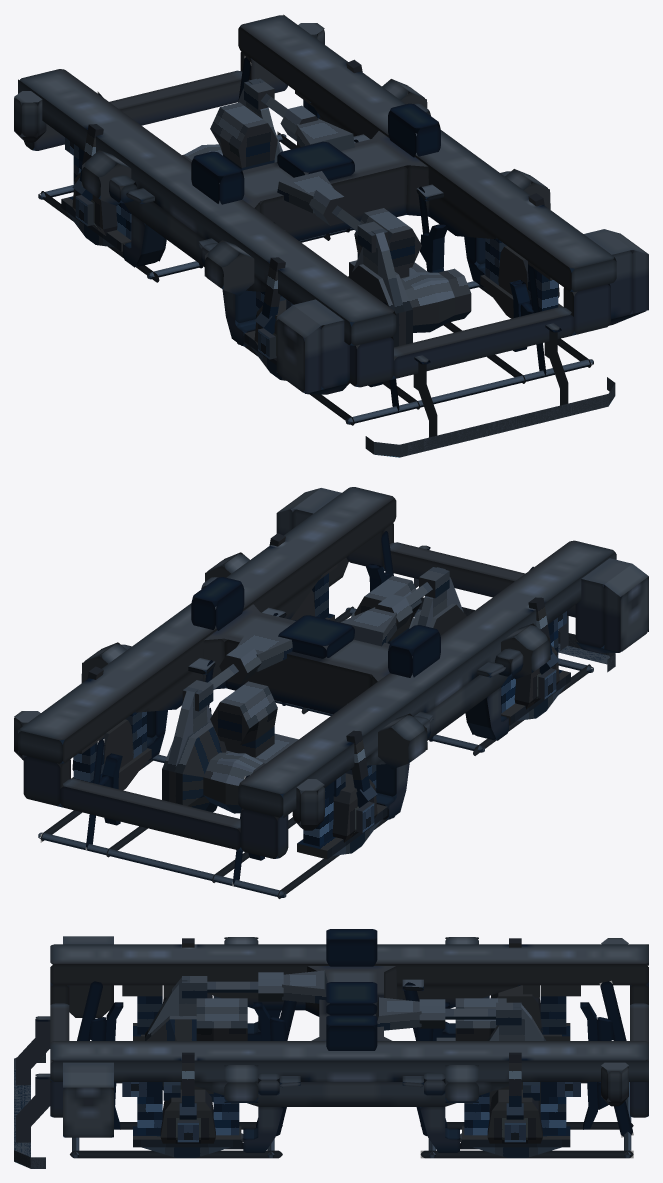
Rendered from dfh21_main.obj.
3 renders of one model, top to bottom at view 1: azimuth 30°, elevation 25°; view 2: azimuth 150°, elevation 25°; view 3: azimuth 270°, elevation 25°, orthographic. The views are drawn at different scales.
Parts seen in each view (by area): view 1: cube_selection_selection; view 2: cube_selection_selection; view 3: cube_selection_selection.
Part boxes in pixels (box(x1,y1,x2,y2)): cube_selection_selection: box(14, 14, 648, 457); cube_selection_selection: box(14, 487, 648, 898); cube_selection_selection: box(14, 929, 648, 1168).
Size of the model in its own units: 2.62 by 1.12 by 4.67.
